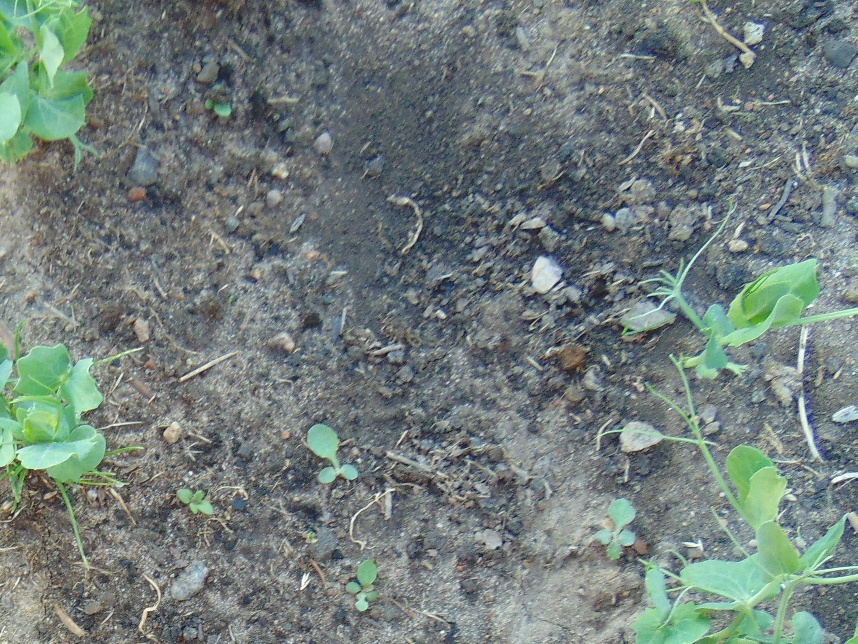crop: (626, 411, 858, 644), (647, 251, 858, 404), (1, 329, 106, 502), (1, 1, 106, 173)
weed: (307, 420, 359, 485), (595, 496, 639, 560), (343, 552, 387, 616), (177, 489, 215, 516)
